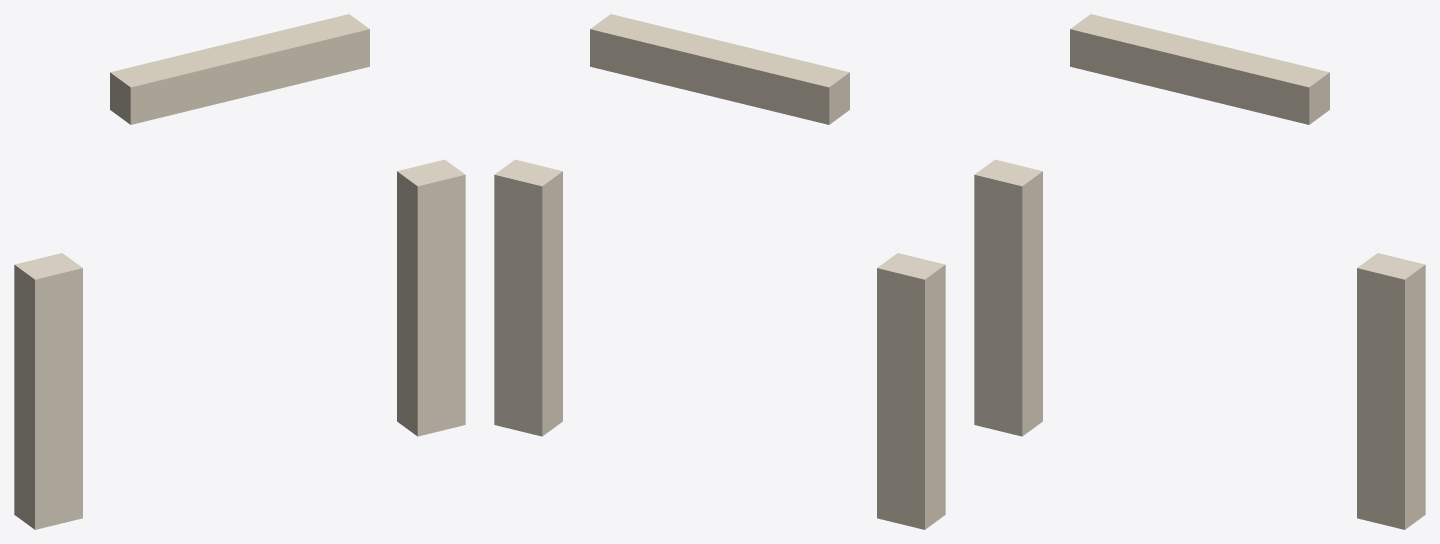
Rendered from coliseum_wall.glb.
3 views of the same model, side by side, from view 1: azimuth 30°, elevation 25°; view 2: azimuth 150°, elevation 25°; view 3: azimuth 330°, elevation 25° (orthographic).
Parts seen in each view (by area): view 1: Cube, Cube.001, Cube.002; view 2: Cube, Cube.001, Cube.002; view 3: Cube, Cube.001, Cube.002.
Boxes of the visible parts, x1=… form: Cube: x1=14, y1=253, x2=82, y2=529; Cube.001: x1=397, y1=159, x2=465, y2=436; Cube.002: x1=110, y1=14, x2=369, y2=124; Cube: x1=877, y1=253, x2=945, y2=529; Cube.001: x1=494, y1=159, x2=562, y2=436; Cube.002: x1=590, y1=14, x2=849, y2=124; Cube: x1=974, y1=159, x2=1042, y2=436; Cube.001: x1=1357, y1=253, x2=1425, y2=529; Cube.002: x1=1070, y1=14, x2=1329, y2=124.
Size of the model in its own units: 1.8 by 1.67 by 0.15.
